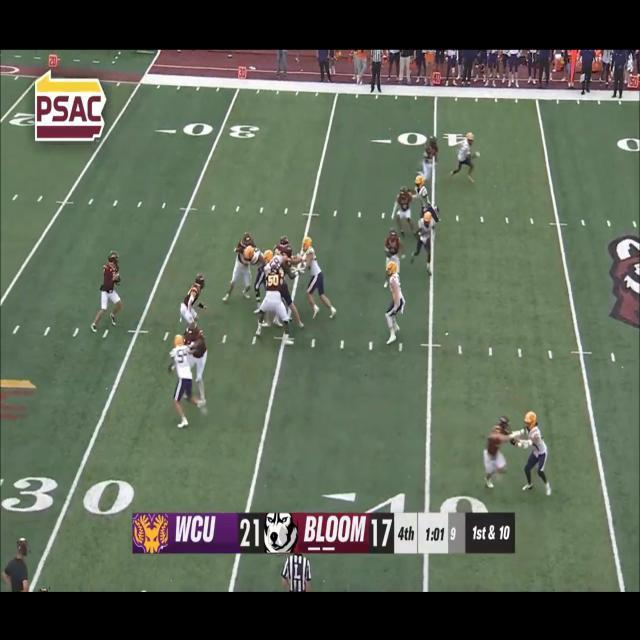football: (112, 271, 124, 286)
